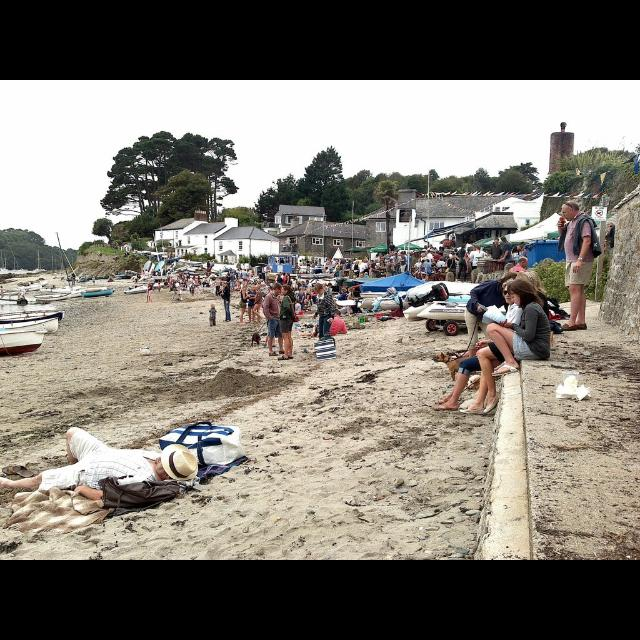Football: (141, 348, 149, 354)
